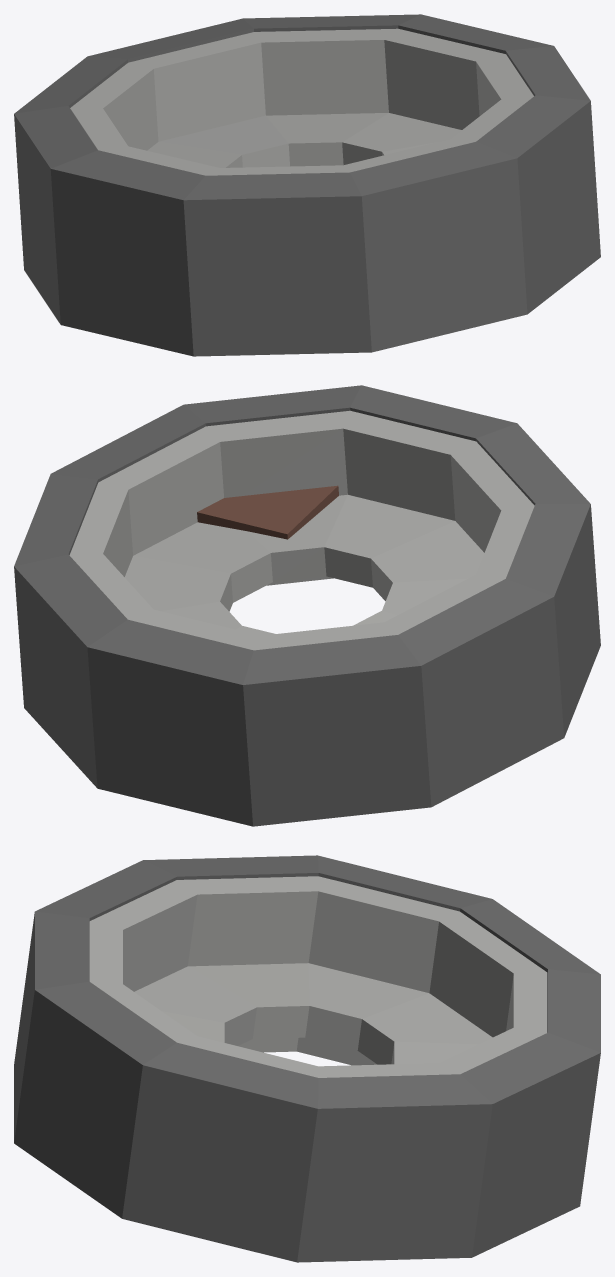
Rendered from junk_wheel.obj.
3 renders of one model, top to bottom at view 1: azimuth 30°, elevation 25°; view 2: azimuth 150°, elevation 25°; view 3: azimuth 270°, elevation 25°, orthographic. The views are drawn at different scales.
Visible parts, largest first — view 1: junk_wheel_0, junk_wheel_1; view 2: junk_wheel_0, junk_wheel_1, junk_wheel_2; view 3: junk_wheel_0, junk_wheel_1.
Part boxes in pixels (<box>): junk_wheel_0: <box>14,14,600,356</box>; junk_wheel_1: <box>70,28,533,175</box>; junk_wheel_0: <box>14,385,600,826</box>; junk_wheel_1: <box>69,410,534,650</box>; junk_wheel_2: <box>197,485,338,539</box>; junk_wheel_0: <box>14,855,600,1262</box>; junk_wheel_1: <box>89,876,547,1077</box>.
Size of the model in its own units: 0.84 by 0.3369 by 0.8221.
